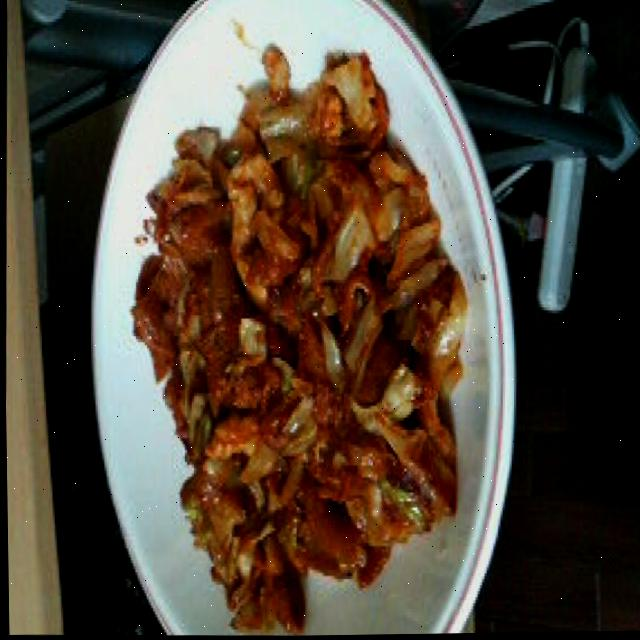蔬菜料理: (110, 23, 508, 639)
